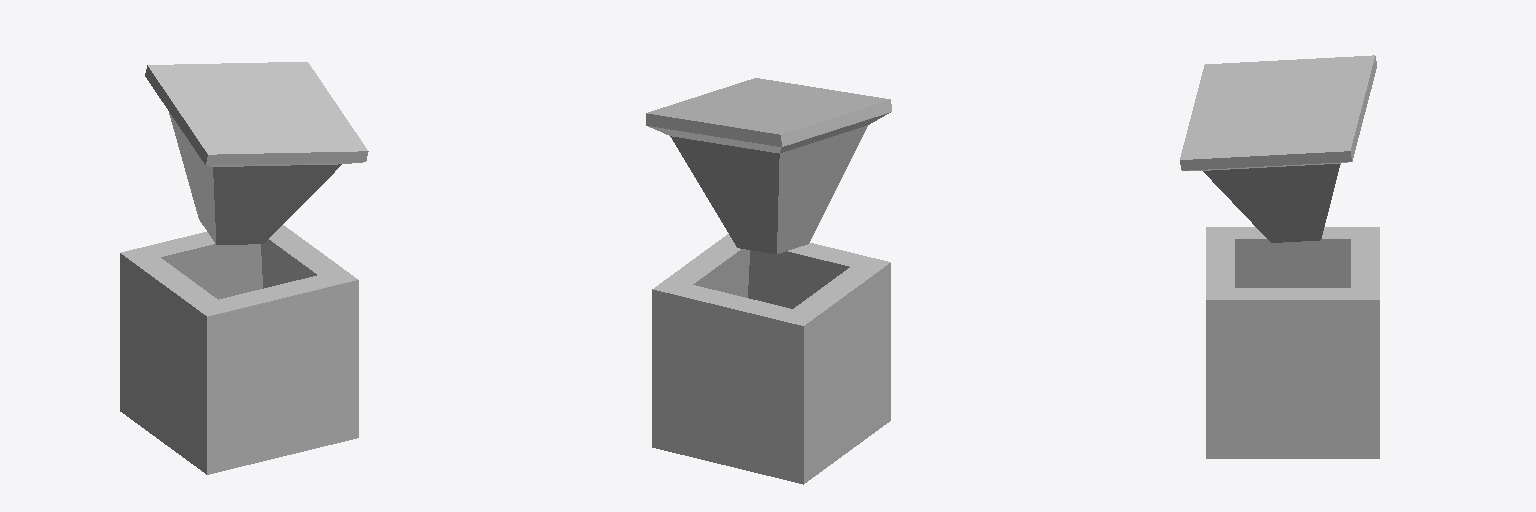
Rendered from AnimatedBox_000007.obj.
The picture shows the model from 3 angles: view 1: azimuth 30°, elevation 25°; view 2: azimuth 150°, elevation 25°; view 3: azimuth 270°, elevation 25°; orthographic projection.
Visible parts, largest first — view 1: Cube, Cube.001; view 2: Cube, Cube.001; view 3: Cube, Cube.001.
Boxes of the visible parts, x1,y1,x2,y2 form: Cube: [120, 225, 358, 474]; Cube.001: [145, 62, 368, 244]; Cube: [652, 234, 890, 484]; Cube.001: [646, 78, 891, 253]; Cube: [1206, 227, 1379, 458]; Cube.001: [1180, 55, 1376, 242].
Bounding box in the file's own units: 2.3 × 4.32 × 2.3.